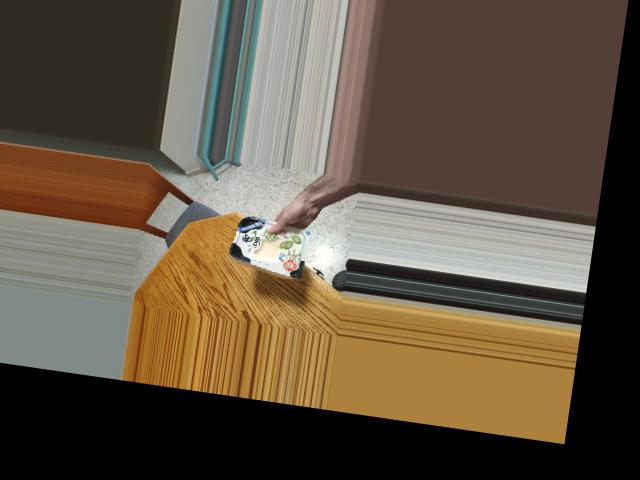cheese: (225, 213, 301, 274)
